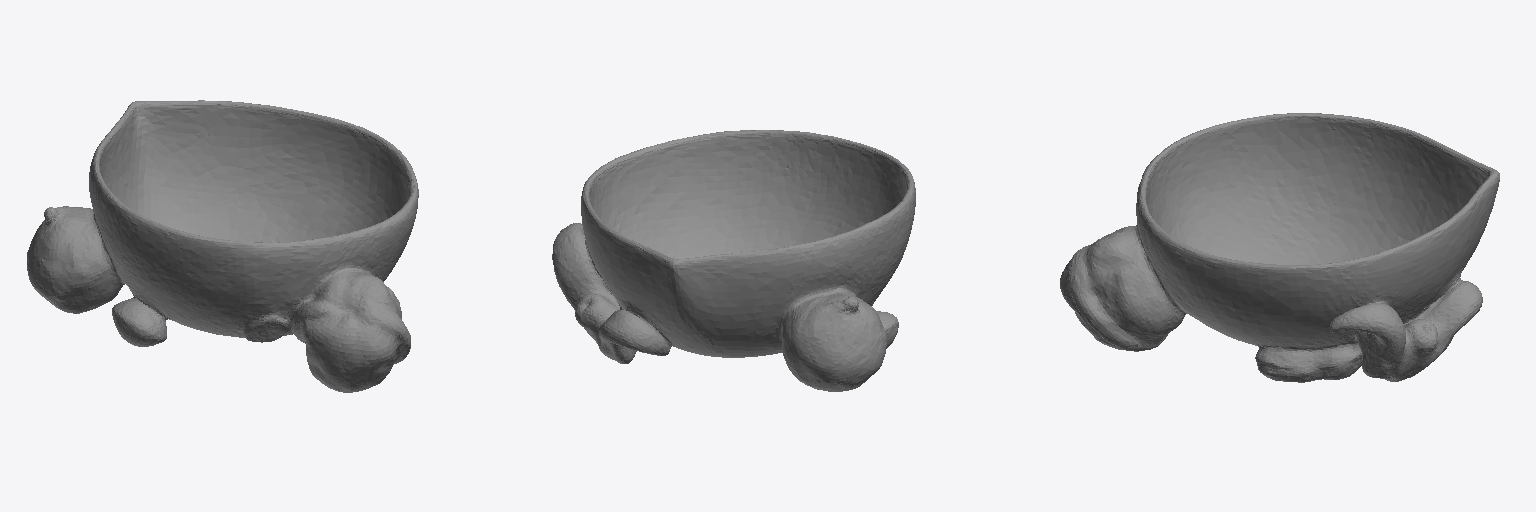
3 renders of one model, left to right at view 1: azimuth 30°, elevation 25°; view 2: azimuth 150°, elevation 25°; view 3: azimuth 270°, elevation 25°, orthographic.
Parts seen in each view (by area): view 1: szb_wy_49; view 2: szb_wy_49; view 3: szb_wy_49.
Boxes of the visible parts, <box> form: szb_wy_49: <box>27,100,418,392</box>; szb_wy_49: <box>552,130,915,391</box>; szb_wy_49: <box>1060,113,1499,382</box>.
Size of the model in its own units: 0.0846 by 0.0394 by 0.097.